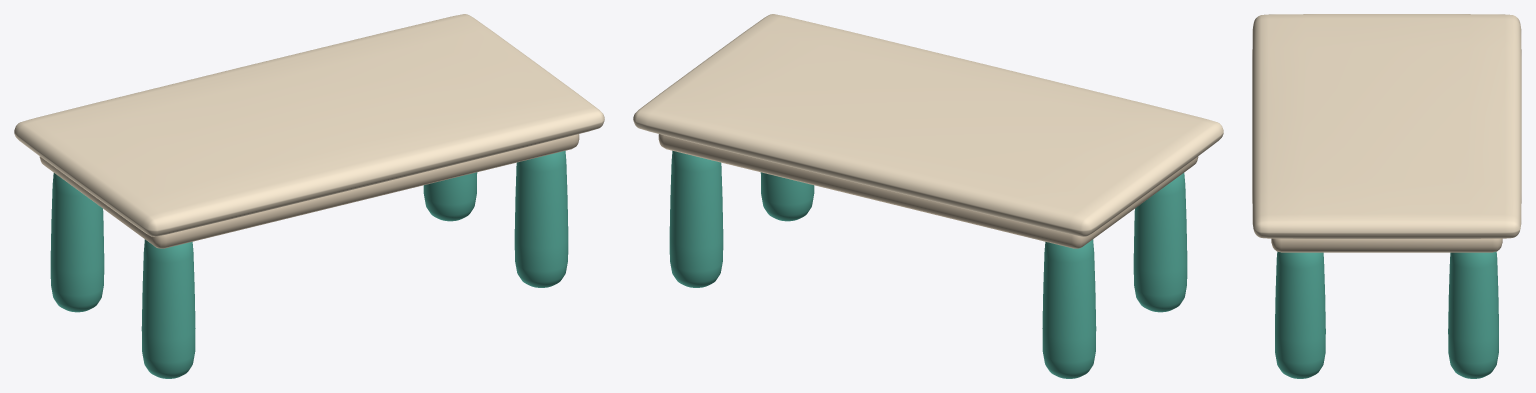
Rendered from coffee_table_a.glb.
The picture shows the model from 3 angles, left to right: view 1: azimuth 30°, elevation 25°; view 2: azimuth 150°, elevation 25°; view 3: azimuth 270°, elevation 25°; orthographic projection. The views are drawn at different scales.
Parts seen in each view (by area): view 1: body; view 2: body; view 3: body.
Boxes of the visible parts, bbox=[...] form: body: bbox=[14, 14, 604, 378]; body: bbox=[633, 14, 1223, 378]; body: bbox=[1252, 14, 1521, 378].
Bounding box in the file's own units: 1.05 × 0.4 × 0.56.
